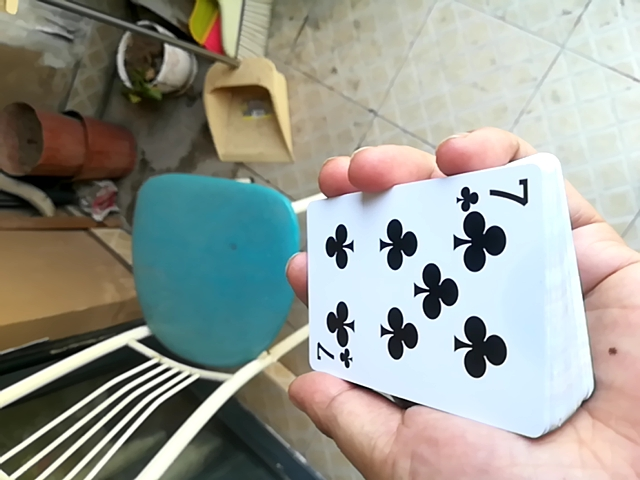mh 7: (298, 150, 583, 441)
